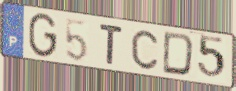5: (196, 34, 227, 84), (64, 17, 90, 63)
C: (130, 29, 160, 72)
D: (161, 30, 196, 78)
G: (27, 12, 59, 60)
T: (98, 22, 125, 67)
